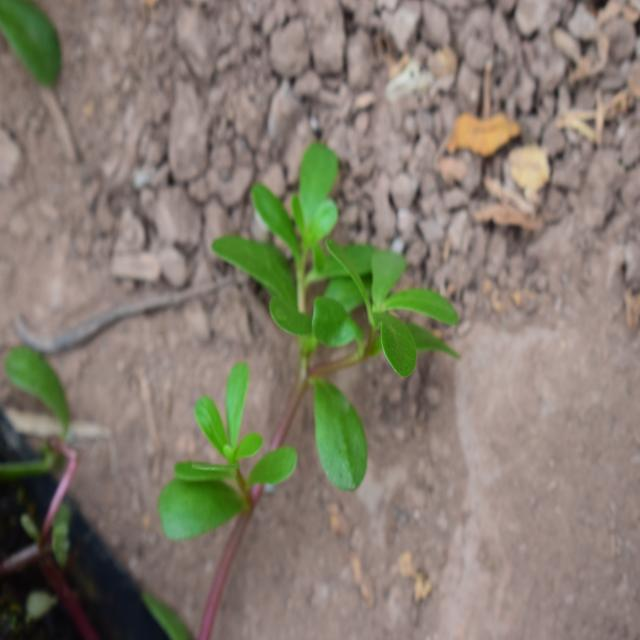purslane: (154, 123, 464, 552)
